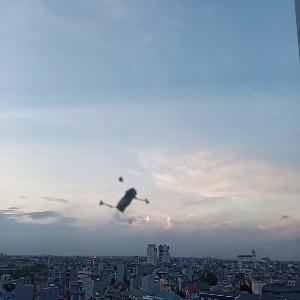drone: (87, 159, 160, 232)
